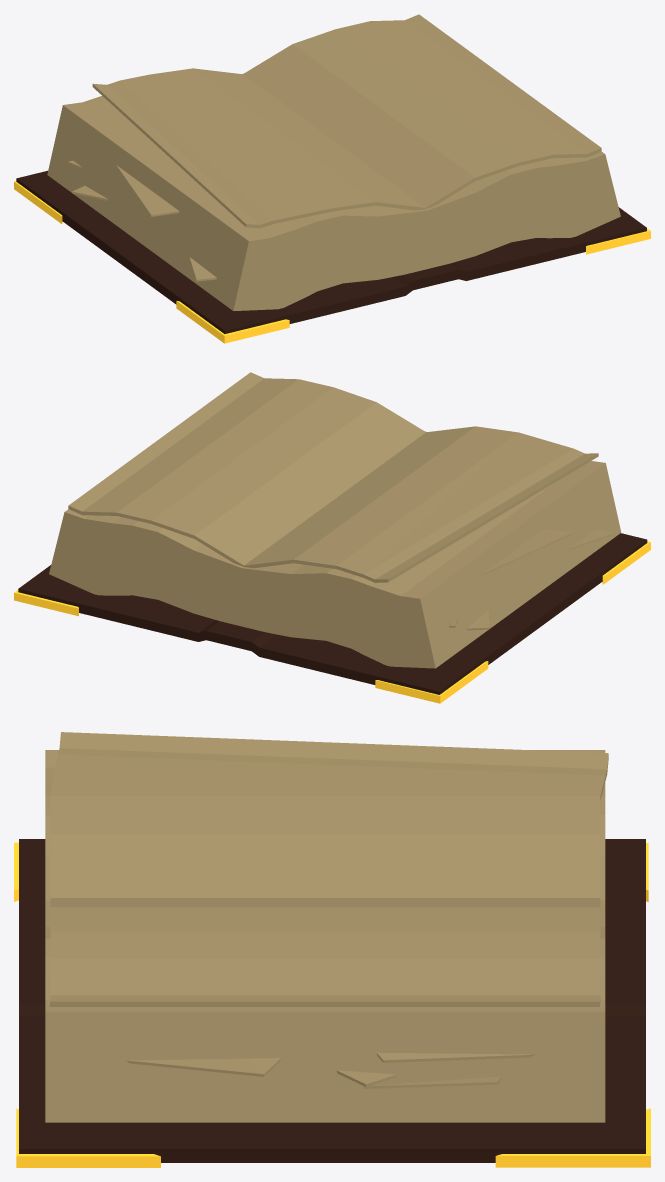
File: book3_open.glb
3 renders of one model, top to bottom at view 1: azimuth 30°, elevation 25°; view 2: azimuth 150°, elevation 25°; view 3: azimuth 270°, elevation 25°, orthographic. The views are drawn at different scales.
Parts seen in each view (by area): view 1: Book3_Open; view 2: Book3_Open; view 3: Book3_Open.
Part boxes in pixels (box(x1,y1,x2,y2)): Book3_Open: box(14, 14, 650, 343); Book3_Open: box(14, 372, 650, 703); Book3_Open: box(14, 732, 650, 1167).
Size of the model in its own units: 87.66 by 19.45 by 75.21.
